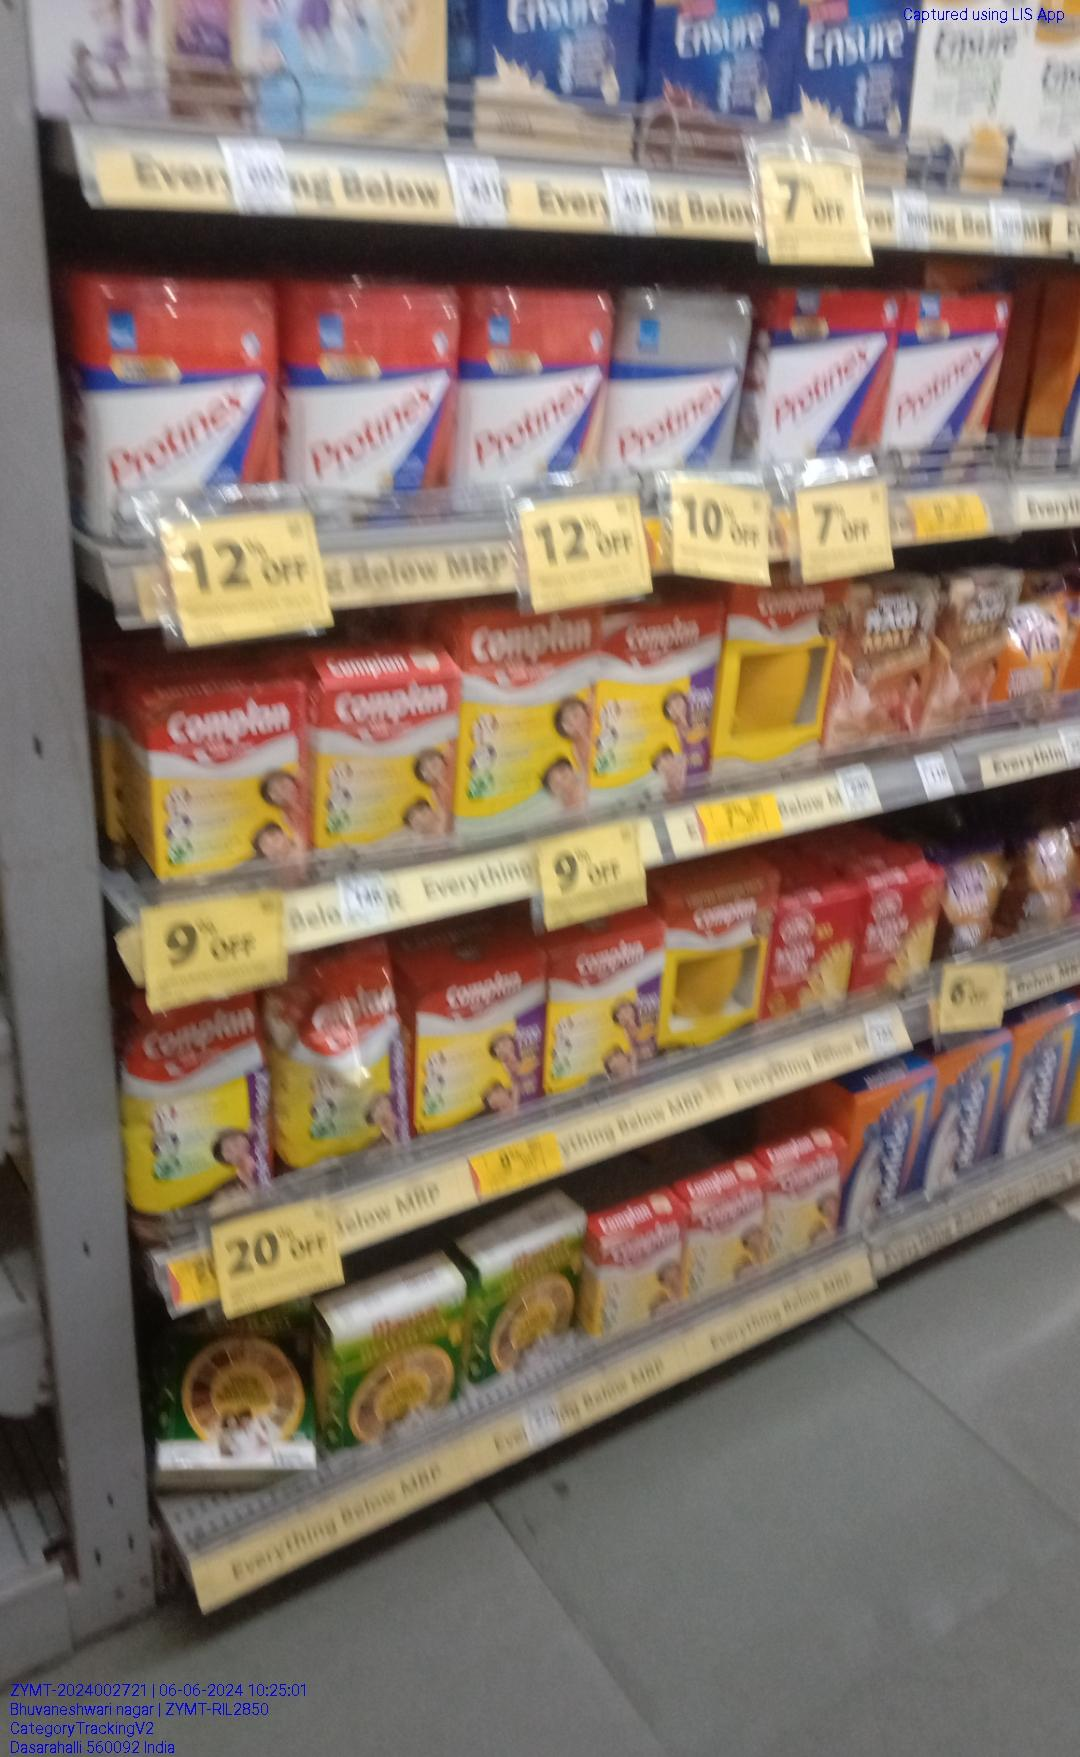COMPLAN_KESAR_BADAM_200_GMS_PACK: (317, 675, 453, 865)
PROTINEX_CHOCOLATE_400_G_JAR: (87, 277, 276, 506), (285, 277, 452, 496)
PROTINEX_ORIGINAL_400_G_JAR: (613, 289, 753, 484)
PROTINEX_VANILLA_400_G_JAR: (463, 289, 605, 494)
